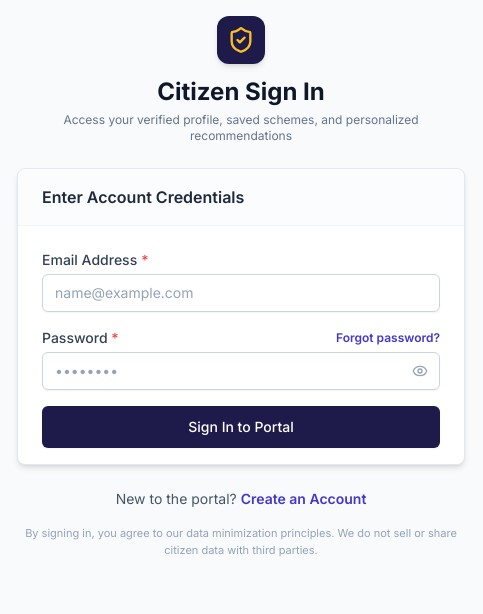
Test: LoginPage Component › validates empty inputs on submit
Click the button "Sign In to Portal" at x=241, y=427, box [42,406,440,448]
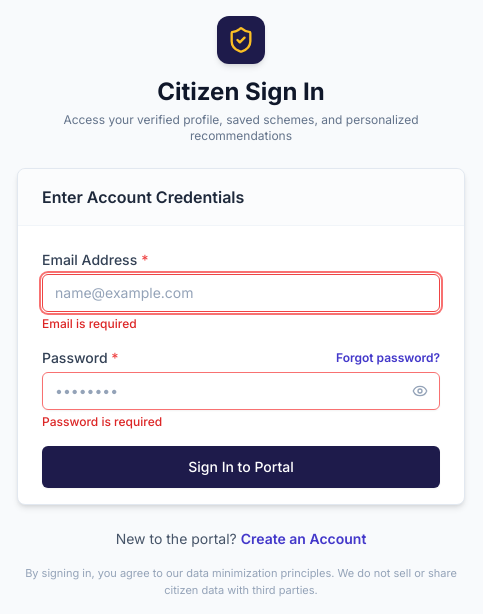
Now the text "Email is required" is shown, box [42,316,137,331]
Now the text "Password is required" is shown, box [42,414,162,429]
